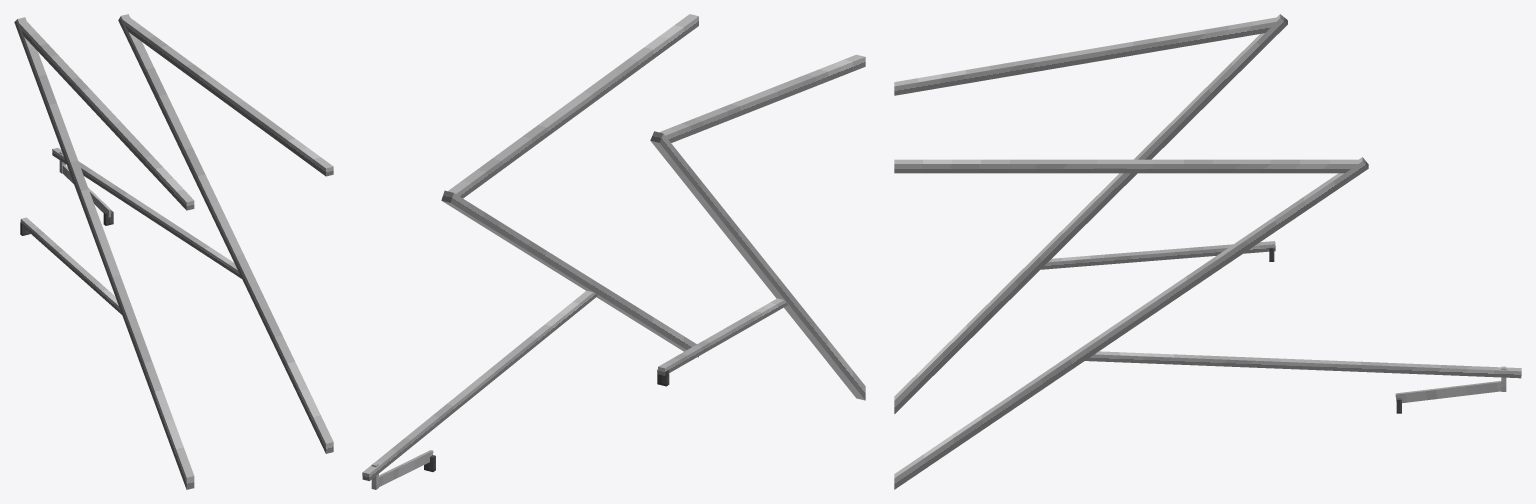
Rendered from cantilever_outer_5px.obj.
3 views of the same model, side by side, from view 1: azimuth 30°, elevation 25°; view 2: azimuth 150°, elevation 25°; view 3: azimuth 270°, elevation 25° (orthographic). The views are drawn at different scales.
Visible parts, largest first — view 1: 7a5cb913-ea59-4de8-8a98-44f9cbed5c06, 6d4e7a8c-8672-4020-89bc-9c9b4d44fde5, dc63da5d-b92c-4ffd-8b44-da6416aa1763, c2944c99-8821-48e9-beca-157db503583b, 7548e4ff-99d7-4665-ac4e-191272580392, 568ff3b1-51f4-48a6-a51d-b25075bacfe9; view 2: 7a5cb913-ea59-4de8-8a98-44f9cbed5c06, dc63da5d-b92c-4ffd-8b44-da6416aa1763, 6d4e7a8c-8672-4020-89bc-9c9b4d44fde5, 7548e4ff-99d7-4665-ac4e-191272580392, c2944c99-8821-48e9-beca-157db503583b, 568ff3b1-51f4-48a6-a51d-b25075bacfe9, 24eb51c2-6b3e-4569-bdeb-7b8d45cb79c0; view 3: 6d4e7a8c-8672-4020-89bc-9c9b4d44fde5, 7a5cb913-ea59-4de8-8a98-44f9cbed5c06, dc63da5d-b92c-4ffd-8b44-da6416aa1763, c2944c99-8821-48e9-beca-157db503583b, 7548e4ff-99d7-4665-ac4e-191272580392, 568ff3b1-51f4-48a6-a51d-b25075bacfe9, 24eb51c2-6b3e-4569-bdeb-7b8d45cb79c0.
Boxes of the visible parts, <box> form: 7a5cb913-ea59-4de8-8a98-44f9cbed5c06: <box>14,17,194,489</box>; 6d4e7a8c-8672-4020-89bc-9c9b4d44fde5: <box>118,14,333,453</box>; dc63da5d-b92c-4ffd-8b44-da6416aa1763: <box>123,17,333,176</box>; c2944c99-8821-48e9-beca-157db503583b: <box>19,21,194,210</box>; 7548e4ff-99d7-4665-ac4e-191272580392: <box>52,147,241,278</box>; 568ff3b1-51f4-48a6-a51d-b25075bacfe9: <box>20,217,121,314</box>; 7a5cb913-ea59-4de8-8a98-44f9cbed5c06: <box>650,131,865,400</box>; dc63da5d-b92c-4ffd-8b44-da6416aa1763: <box>448,14,698,198</box>; 6d4e7a8c-8672-4020-89bc-9c9b4d44fde5: <box>441,190,698,357</box>; 7548e4ff-99d7-4665-ac4e-191272580392: <box>362,290,597,480</box>; c2944c99-8821-48e9-beca-157db503583b: <box>659,54,865,142</box>; 568ff3b1-51f4-48a6-a51d-b25075bacfe9: <box>657,298,787,375</box>; 24eb51c2-6b3e-4569-bdeb-7b8d45cb79c0: <box>379,450,433,486</box>; 6d4e7a8c-8672-4020-89bc-9c9b4d44fde5: <box>894,157,1368,489</box>; 7a5cb913-ea59-4de8-8a98-44f9cbed5c06: <box>894,14,1287,413</box>; dc63da5d-b92c-4ffd-8b44-da6416aa1763: <box>894,159,1358,173</box>; c2944c99-8821-48e9-beca-157db503583b: <box>894,17,1276,95</box>; 7548e4ff-99d7-4665-ac4e-191272580392: <box>1085,351,1521,378</box>; 568ff3b1-51f4-48a6-a51d-b25075bacfe9: <box>1041,241,1275,269</box>; 24eb51c2-6b3e-4569-bdeb-7b8d45cb79c0: <box>1395,381,1501,403</box>.
Bounding box in the file's own units: 1.19 × 2.68 × 3.84.
